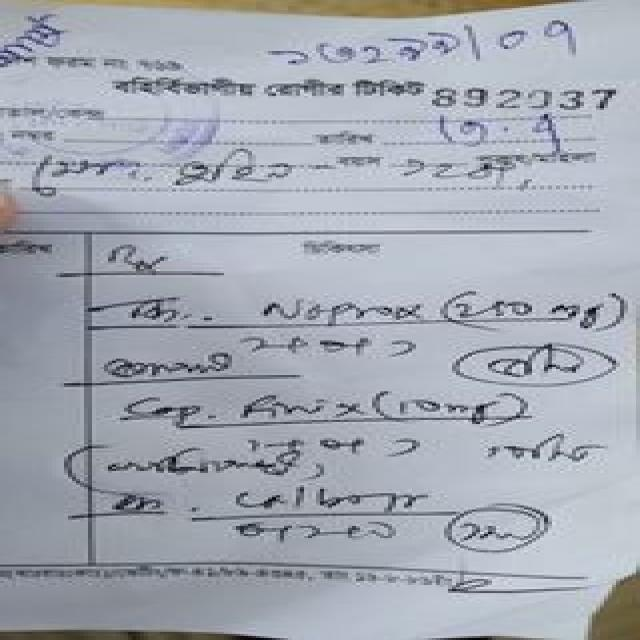P-C: (241, 289, 446, 334)
